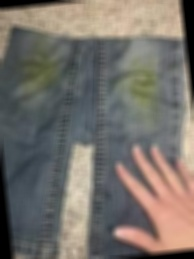earth: (125, 60, 163, 126), (21, 45, 62, 91)
